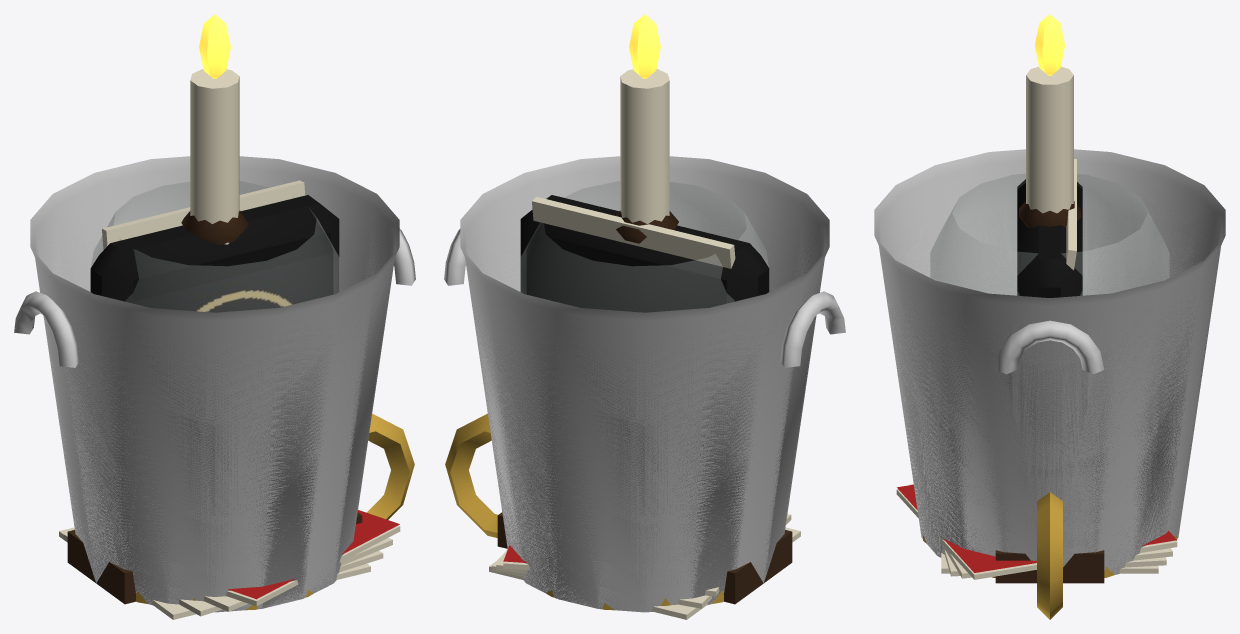
Rendered from barbits.glb.
3 views of the same model, side by side, from view 1: azimuth 30°, elevation 25°; view 2: azimuth 150°, elevation 25°; view 3: azimuth 270°, elevation 25° (orthographic). The views are drawn at different scales.
Parts seen in each view (by area): view 1: ice_bucket, pump_clip_stand, tip_jar, candle_stick, beermat_stack, menu_stand, bell_brass; view 2: ice_bucket, pump_clip_stand, tip_jar, candle_stick, menu_stand, beermat_stack, bell_brass; view 3: ice_bucket, tip_jar, candle_stick, pump_clip_stand, beermat_stack, menu_stand, bell_brass.
Boxes of the visible parts, x1,y1,x2,y2 form: ice_bucket: (14, 156, 415, 612); pump_clip_stand: (90, 195, 339, 312); tip_jar: (91, 181, 339, 312); candle_stick: (136, 14, 414, 610); beermat_stack: (59, 510, 400, 619); menu_stand: (67, 180, 362, 604); bell_brass: (181, 210, 248, 244); ice_bucket: (444, 156, 845, 612); pump_clip_stand: (520, 195, 769, 312); tip_jar: (520, 181, 768, 312); candle_stick: (445, 14, 723, 610); menu_stand: (497, 196, 792, 604); beermat_stack: (489, 514, 800, 619); bell_brass: (615, 210, 678, 243); ice_bucket: (874, 149, 1225, 574); tip_jar: (930, 174, 1169, 295); candle_stick: (923, 14, 1176, 619); pump_clip_stand: (1017, 179, 1082, 297); beermat_stack: (896, 484, 1177, 579); menu_stand: (995, 159, 1104, 583); bell_brass: (1019, 201, 1080, 227).
Size of the model in its own units: 0.191 by 0.2705 by 0.1615.
16 materials, 3 textured.
